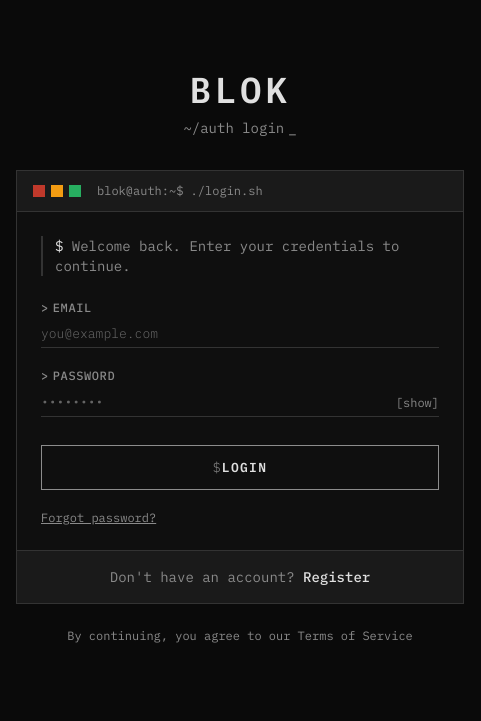
Test: mode switch › clears local error when switching modes
Click the button "Register": (337, 577) x1=303 y1=567 x2=370 y2=587
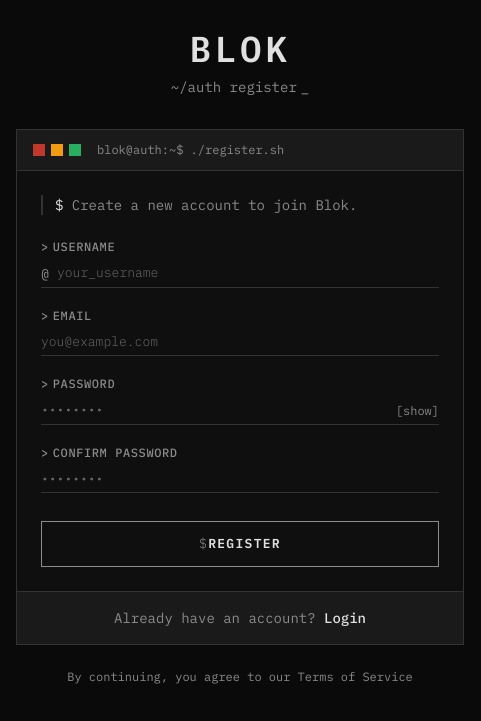
// trigger mismatch error
In the field with placeholder "your_username": (240, 274) x1=41 y1=259 x2=439 y2=288, type "alice"
In the field with placeholder "you@example.com": (240, 342) x1=41 y1=328 x2=439 y2=356, type "a@b.com"
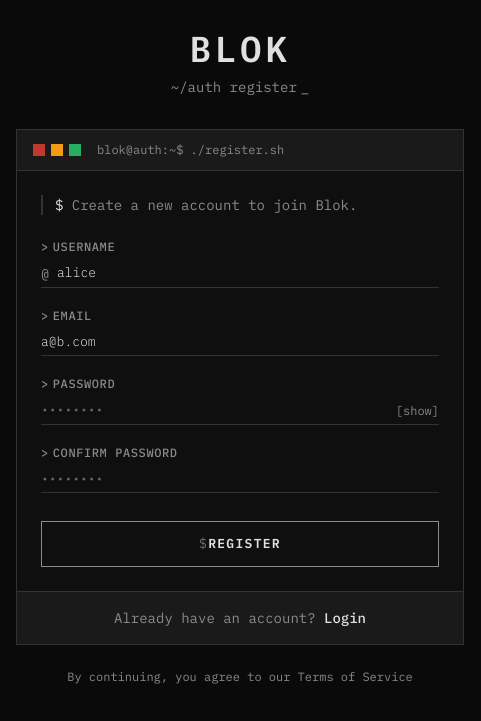
In the 1st password field with placeholder "••••••••": (240, 411) x1=41 y1=396 x2=439 y2=425, type "abc123"
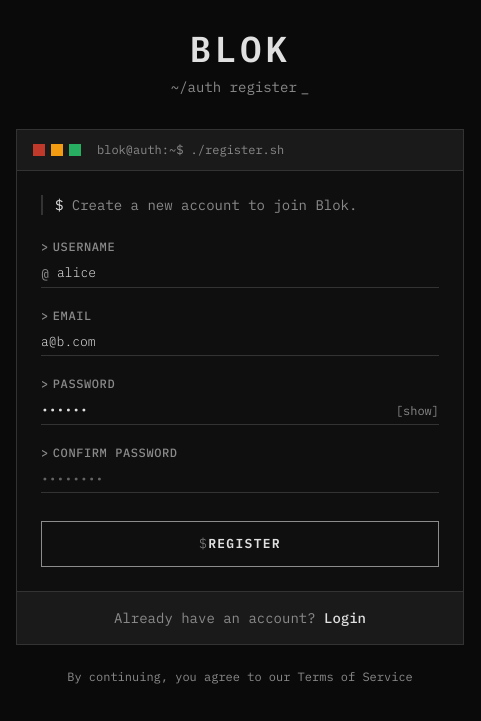
In the password field with placeholder "••••••••": (240, 479) x1=41 y1=465 x2=439 y2=493, type "different"
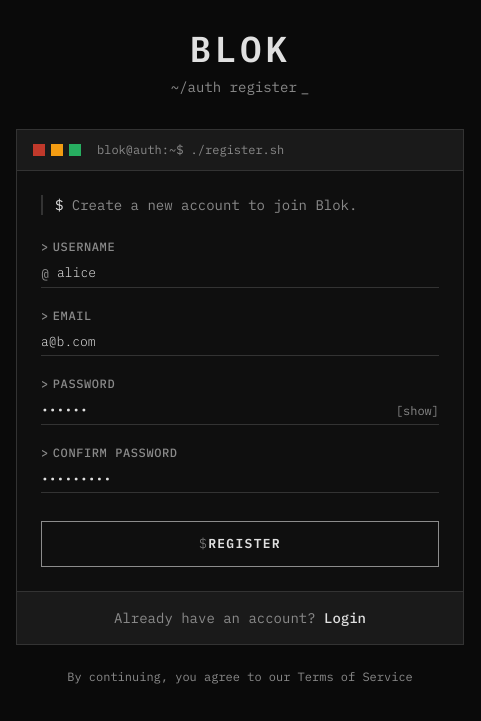
Submit the form from the button "Register", box x1=41 y1=521 x2=439 y2=567
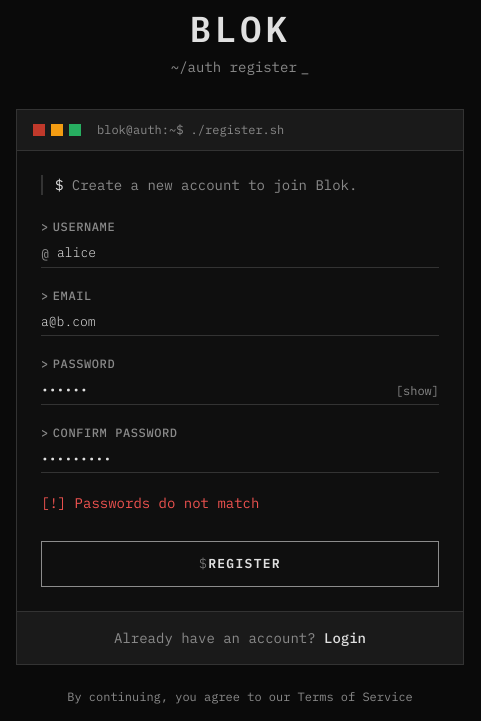
Expected: the text "Passwords do not match" is shown, x1=75 y1=494 x2=259 y2=512
// switch back
Click the button "Login": (345, 638) x1=324 y1=628 x2=366 y2=648
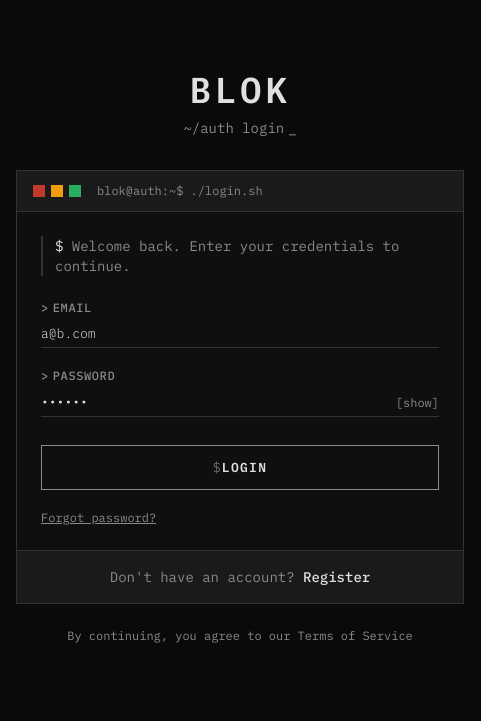
Expected: the text "Passwords do not match" is gone
